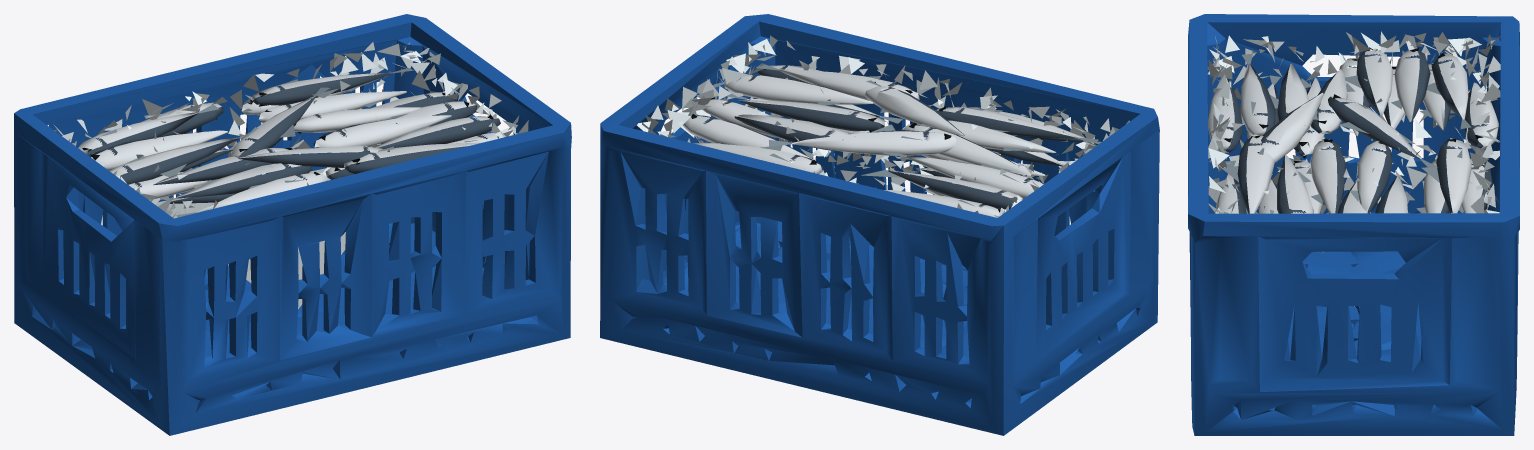
Rendered from f_nelayan_peti_ikan.glb.
The picture shows the model from 3 angles, left to right: view 1: azimuth 30°, elevation 25°; view 2: azimuth 150°, elevation 25°; view 3: azimuth 270°, elevation 25°; orthographic projection. The views are drawn at different scales.
Visible parts, largest first — view 1: crate_blue_hdpe, fish_skin_silver, fish_skin_silver_punggung, crushed_ice, fish_fin; view 2: crate_blue_hdpe, fish_skin_silver, crushed_ice, fish_skin_silver_punggung, fish_fin; view 3: crate_blue_hdpe, fish_skin_silver, crushed_ice, fish_skin_silver_punggung, fish_fin, fish_eye.
Boxes of the visible parts, left/top/right/bottom form: crate_blue_hdpe: left=14, top=14, right=571, bottom=435; fish_skin_silver: left=78, top=73, right=500, bottom=212; fish_skin_silver_punggung: left=86, top=73, right=500, bottom=205; crushed_ice: left=47, top=41, right=528, bottom=308; fish_fin: left=100, top=68, right=479, bottom=217; crate_blue_hdpe: left=600, top=14, right=1159, bottom=435; fish_skin_silver: left=682, top=65, right=1085, bottom=217; crushed_ice: left=637, top=35, right=1129, bottom=217; fish_skin_silver_punggung: left=700, top=65, right=1083, bottom=209; fish_fin: left=726, top=63, right=1101, bottom=206; crate_blue_hdpe: left=1188, top=14, right=1519, bottom=435; fish_skin_silver: left=1208, top=48, right=1498, bottom=213; crushed_ice: left=1207, top=31, right=1500, bottom=252; fish_skin_silver_punggung: left=1226, top=50, right=1492, bottom=213; fish_fin: left=1218, top=53, right=1497, bottom=213; fish_eye: left=1223, top=47, right=1483, bottom=162.
Size of the model in its own units: 0.6159 by 0.3003 by 0.416.
